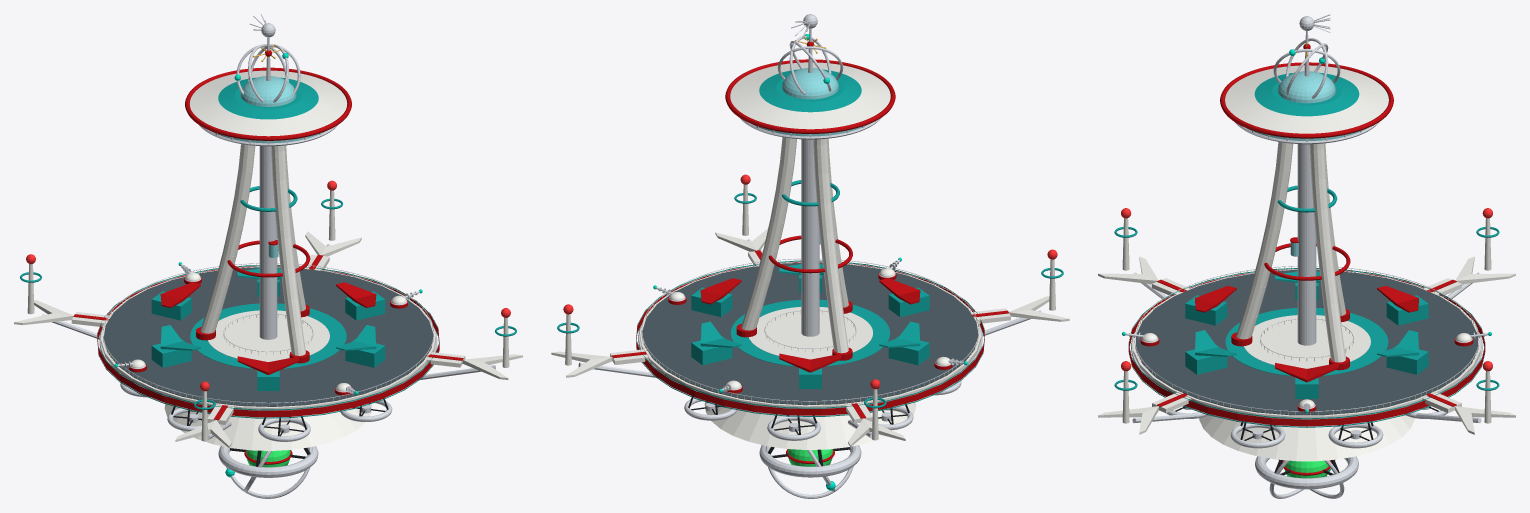
Rendered from station_command.obj.
3 renders of one model, left to right at view 1: azimuth 30°, elevation 25°; view 2: azimuth 150°, elevation 25°; view 3: azimuth 270°, elevation 25°, orthographic. The views are drawn at different scales.
Parts seen in each view (by area): view 1: station_command; view 2: station_command; view 3: station_command.
Boxes of the visible parts, x1,y1,x2,y2 form: station_command: (14, 14, 522, 498); station_command: (551, 14, 1069, 498); station_command: (1098, 14, 1515, 498).
Bounding box in the file's own units: 1500 × 1926 × 1500.
1 material, 1 textured.
